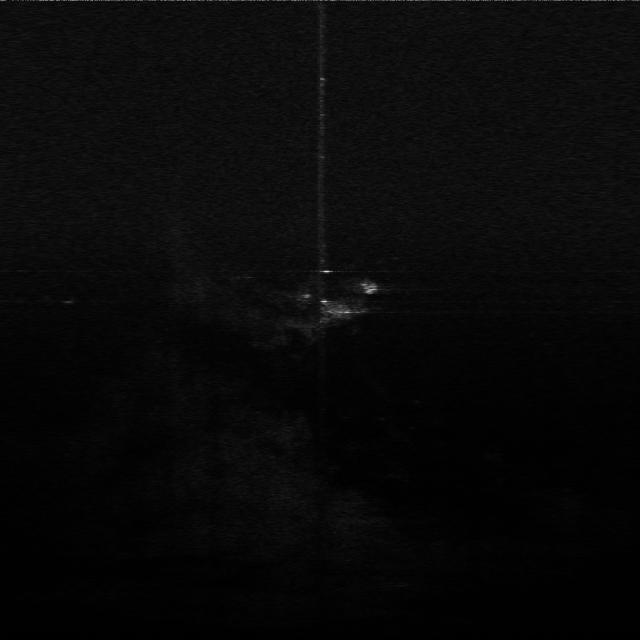rov: (357, 277, 383, 294)
